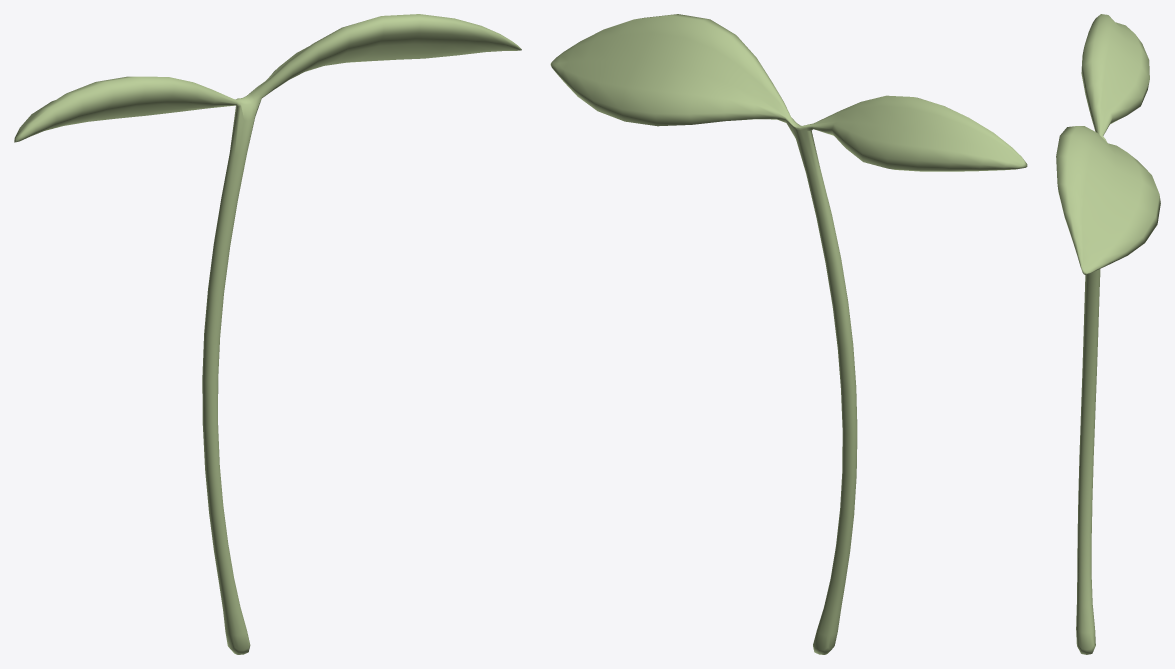
File: tree_sprout.gltf
3 renders of one model, left to right at view 1: azimuth 30°, elevation 25°; view 2: azimuth 150°, elevation 25°; view 3: azimuth 270°, elevation 25°, orthographic. The views are drawn at different scales.
Parts seen in each view (by area): view 1: Cube.001; view 2: Cube.001; view 3: Cube.001.
Part boxes in pixels (x1,y1,x2,y2): Cube.001: [14, 14, 521, 654]; Cube.001: [550, 14, 1027, 654]; Cube.001: [1056, 14, 1160, 654].
Size of the model in its own units: 1.78 by 2.09 by 0.3422.
